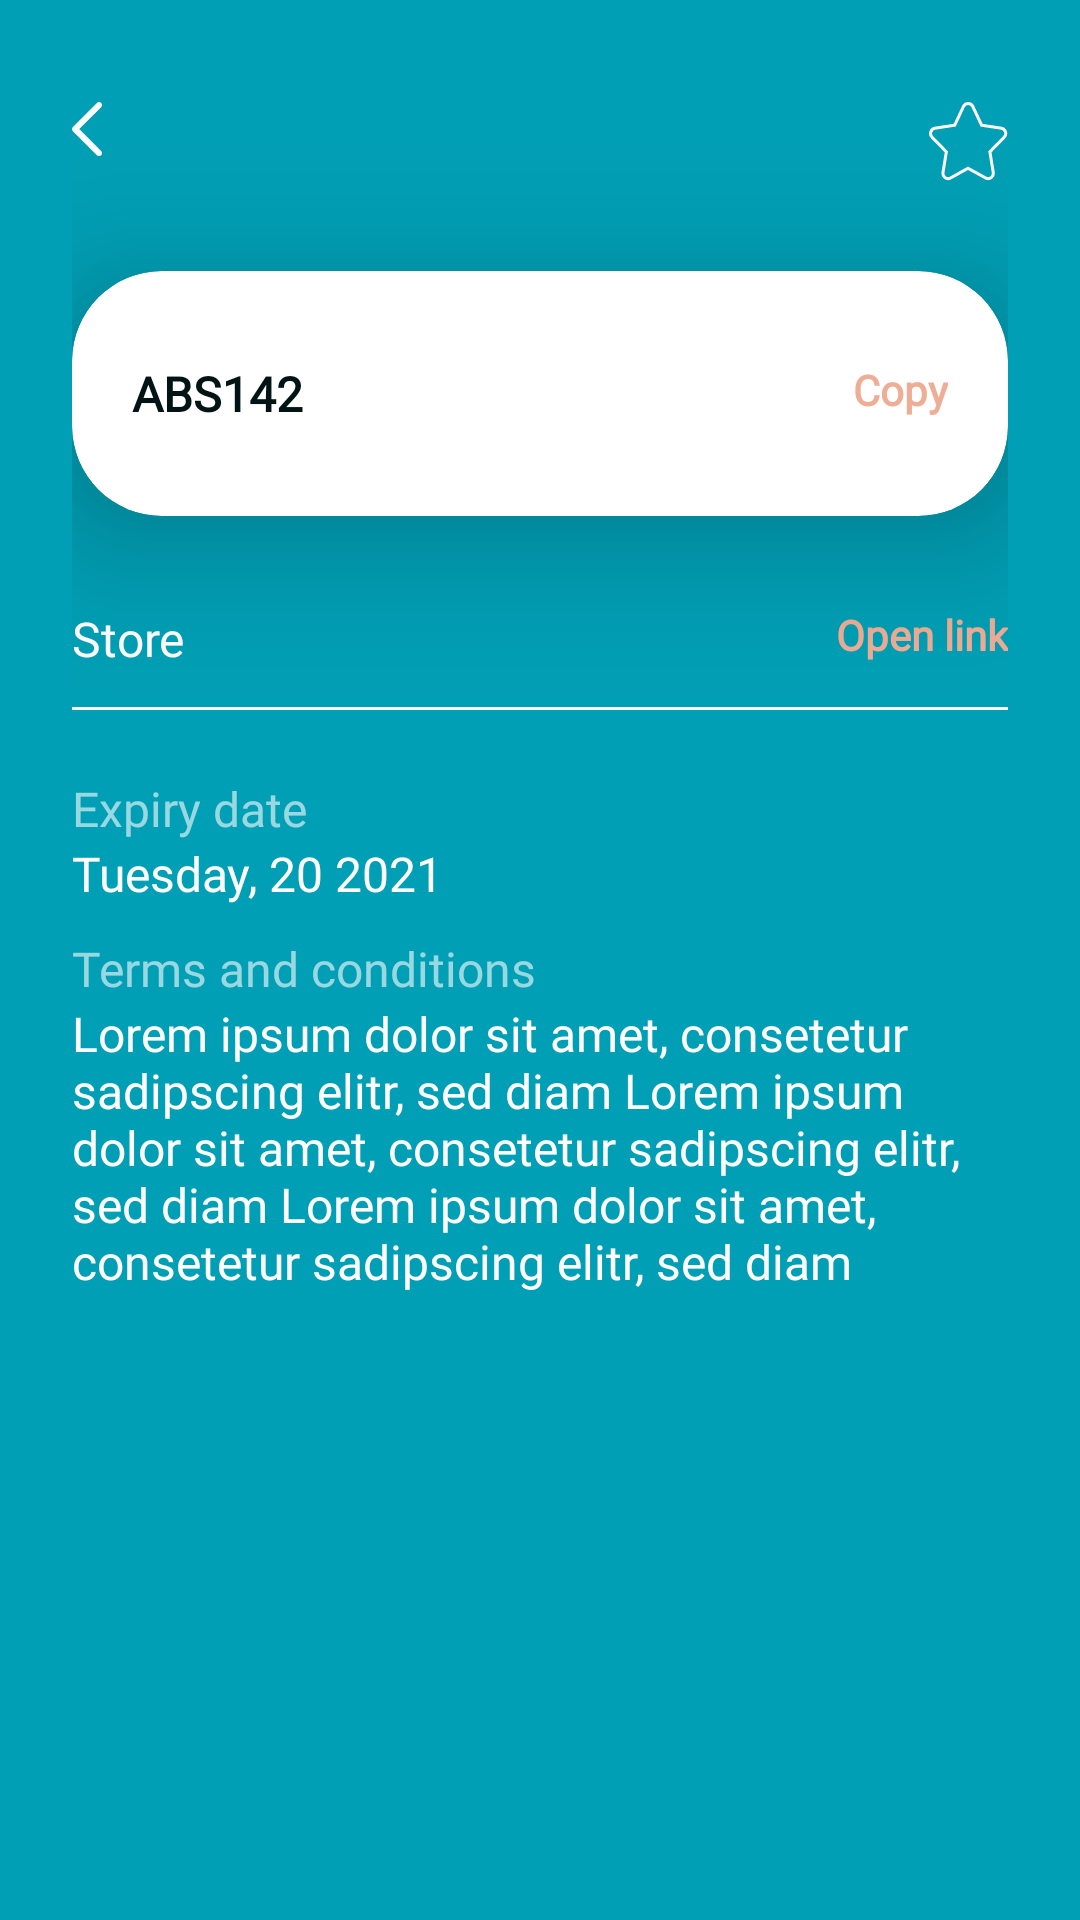

Where icons sit on this 1080px x 1920px app screen, as [x1=x1, y1=y1, x2=x2, y2=y2]:
back arrow: [x1=72, y1=102, x2=102, y2=156]
favorites: [x1=929, y1=102, x2=1008, y2=181]
